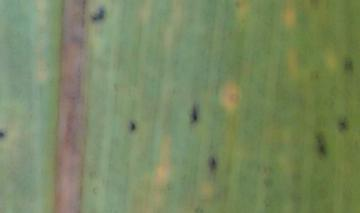tarspot: (315, 132, 326, 154), (91, 7, 104, 23), (189, 104, 199, 124), (208, 157, 217, 172), (344, 55, 352, 70), (338, 119, 347, 131), (128, 122, 137, 133), (1, 130, 5, 139)
